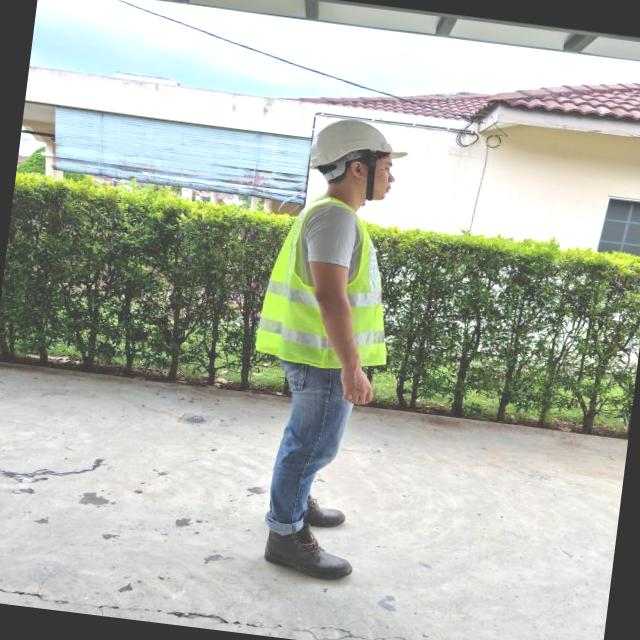boots: (260, 517, 359, 582), (290, 490, 354, 533)
helmet: (302, 112, 412, 183)
vest: (252, 192, 406, 376)
